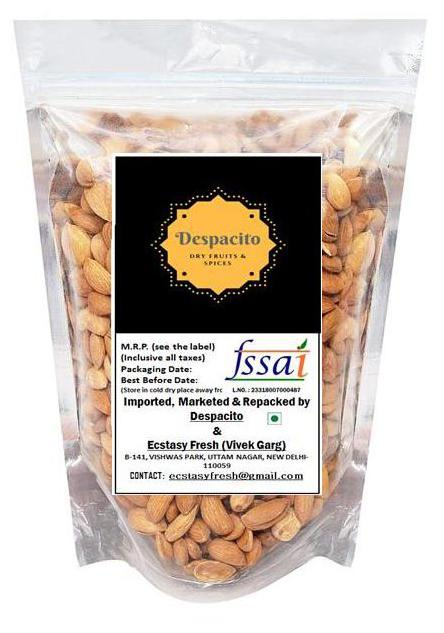fssai: (227, 340, 307, 382)
